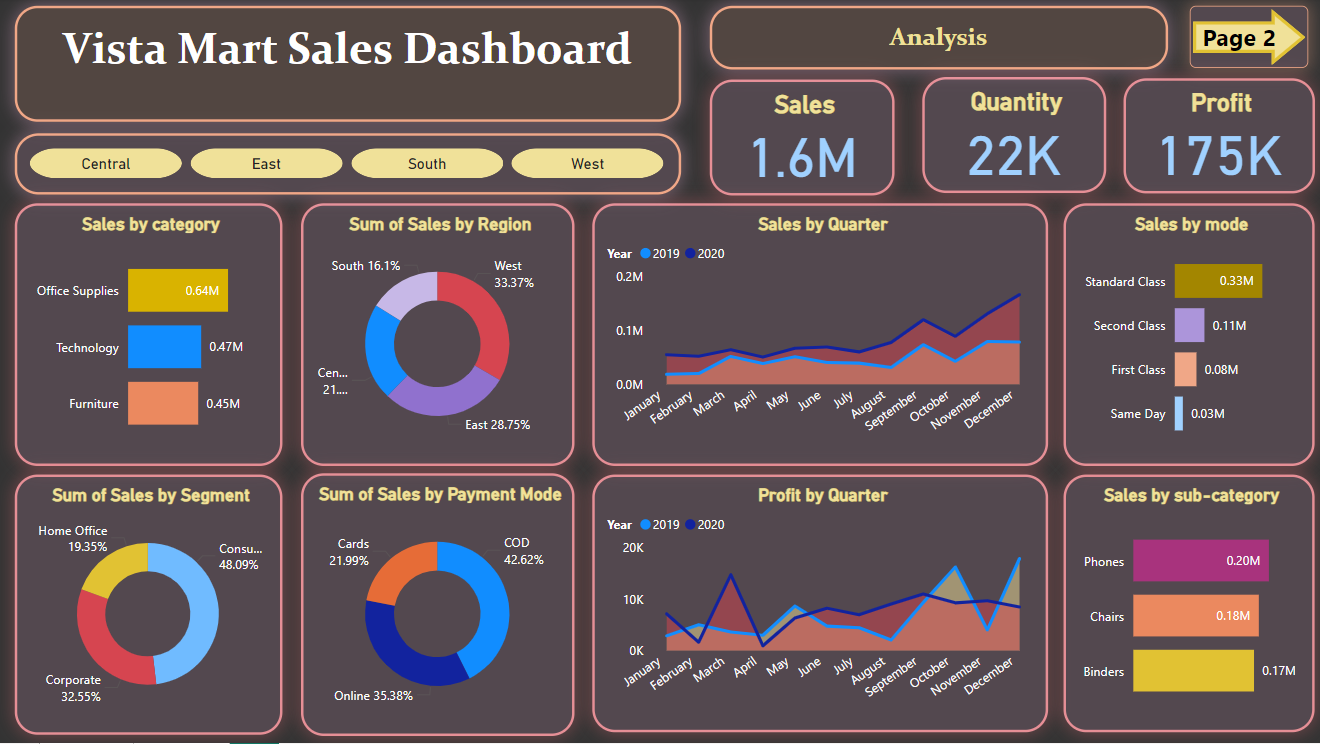

What the dashboard file says about the page in this screenshot:
{"tool":"powerbi","page":{"name":"Page 1","canvas":[1280,720],"ordinal":0},"visuals":[{"type":"clusteredBarChart","title":"Sales by category","fields":{"Category":["SuperStore_Sales_Dataset.Category"],"Y":["Sum(SuperStore_Sales_Dataset.Sales)"]},"box":[18.1,199.1,258.2,253.4],"z":0},{"type":"clusteredBarChart","title":"Sales by sub-category","fields":{"Y":["Sum(SuperStore_Sales_Dataset.Sales)"],"Category":["SuperStore_Sales_Dataset.Sub-Category"]},"box":[1030.3,460.9,242.5,248.5],"z":1000},{"type":"clusteredBarChart","title":"Sales by mode","fields":{"Y":["Sum(SuperStore_Sales_Dataset.Sales)"],"Category":["SuperStore_Sales_Dataset.Ship Mode"]},"box":[1030.3,199.1,242.5,253.4],"z":2000},{"type":"areaChart","title":"Sales by Quarter","fields":{"Y":["Sum(SuperStore_Sales_Dataset.Sales)"],"Category":["SuperStore_Sales_Dataset.Order Date.Variation.Date Hierarchy.Month","SuperStore_Sales_Dataset.Order Date.Variation.Date Hierarchy.Day"],"Series":["SuperStore_Sales_Dataset.Order Date.Variation.Date Hierarchy.Year"]},"box":[575.5,199.1,440.4,253.4],"z":3000},{"type":"areaChart","title":"Profit by Quarter","fields":{"Category":["SuperStore_Sales_Dataset.Order Date.Variation.Date Hierarchy.Month","SuperStore_Sales_Dataset.Order Date.Variation.Date Hierarchy.Day"],"Series":["SuperStore_Sales_Dataset.Order Date.Variation.Date Hierarchy.Year"],"Y":["Sum(SuperStore_Sales_Dataset.Profit)"]},"box":[575.5,460.9,440.4,248.5],"z":4000},{"type":"donutChart","fields":{"Category":["SuperStore_Sales_Dataset.Segment"],"Y":["Sum(SuperStore_Sales_Dataset.Sales)"]},"box":[18.1,460.9,258.2,250.9],"z":5000},{"type":"donutChart","fields":{"Y":["Sum(SuperStore_Sales_Dataset.Sales)"],"Category":["SuperStore_Sales_Dataset.Region"]},"box":[294.4,199.1,264.2,253.4],"z":6000},{"type":"donutChart","fields":{"Y":["Sum(SuperStore_Sales_Dataset.Sales)"],"Category":["SuperStore_Sales_Dataset.Payment Mode"]},"box":[294.4,459.7,264.2,253.4],"z":7000},{"type":"advancedSlicerVisual","fields":{"Values":["SuperStore_Sales_Dataset.Region"]},"box":[18.1,131.5,643,59.1],"z":8000},{"type":"textbox","box":[18.1,8.4,643,112.2],"z":9000},{"type":"card","title":"Sales","fields":{"Values":["Sum(SuperStore_Sales_Dataset.Sales)"]},"box":[688.9,79.6,178.6,112.2],"z":10000},{"type":"card","title":"Quantity","fields":{"Values":["Sum(SuperStore_Sales_Dataset.Quantity)"]},"box":[894,77.2,177.3,112.2],"z":11000},{"type":"card","title":"Profit","fields":{"Values":["Sum(SuperStore_Sales_Dataset.Profit)"]},"box":[1088.2,78.4,184.6,111],"z":12000},{"type":"shape","box":[1152.2,8.4,114.6,60.3],"z":13000},{"type":"textbox","box":[688.9,8.4,442.8,61.5],"z":14001}]}

Visuals, with their boxes in screenshot pixels (x1, y1, x2, y2), scaled from the page's 1280x720 canvas onto the 1320x744 screenshot:
"Sales by category" clusteredBarChart: x1=19 y1=206 x2=285 y2=468
"Sales by sub-category" clusteredBarChart: x1=1062 y1=476 x2=1313 y2=733
"Sales by mode" clusteredBarChart: x1=1062 y1=206 x2=1313 y2=468
"Sales by Quarter" areaChart: x1=593 y1=206 x2=1048 y2=468
"Profit by Quarter" areaChart: x1=593 y1=476 x2=1048 y2=733
donutChart - SuperStore_Sales_Dataset.Segment x Sum(SuperStore_Sales_Dataset.Sales): x1=19 y1=476 x2=285 y2=736
donutChart - Sum(SuperStore_Sales_Dataset.Sales) x SuperStore_Sales_Dataset.Region: x1=304 y1=206 x2=576 y2=468
donutChart - Sum(SuperStore_Sales_Dataset.Sales) x SuperStore_Sales_Dataset.Payment Mode: x1=304 y1=475 x2=576 y2=737
advancedSlicerVisual - SuperStore_Sales_Dataset.Region: x1=19 y1=136 x2=682 y2=197
textbox: x1=19 y1=9 x2=682 y2=125
"Sales" card: x1=710 y1=82 x2=895 y2=198
"Quantity" card: x1=922 y1=80 x2=1105 y2=196
"Profit" card: x1=1122 y1=81 x2=1313 y2=196
shape: x1=1188 y1=9 x2=1306 y2=71
textbox: x1=710 y1=9 x2=1167 y2=72
